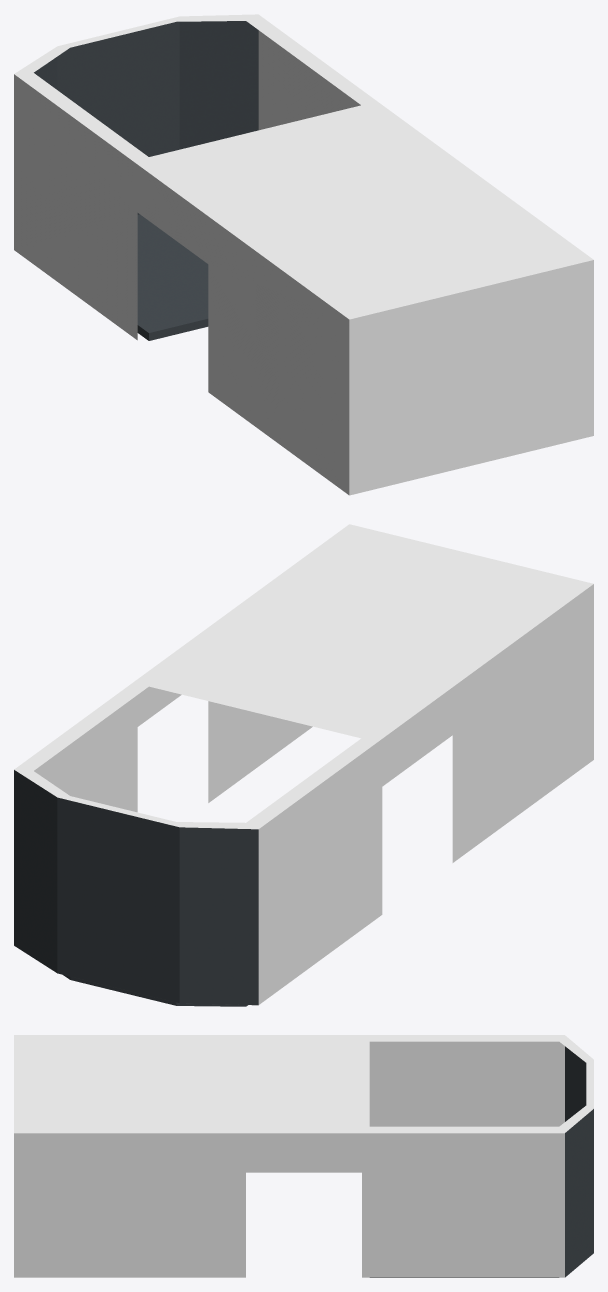
File: Lift_Walls_01_Level_03.fbx
3 views of the same model, one above another, from view 1: azimuth 30°, elevation 25°; view 2: azimuth 150°, elevation 25°; view 3: azimuth 270°, elevation 25° (orthographic). The views are drawn at different scales.
Visible parts, largest first — view 1: Lift_Walls_01_Level_03; view 2: Lift_Walls_01_Level_03; view 3: Lift_Walls_01_Level_03.
Boxes of the visible parts, box(x1,y1,x2,y2) form: Lift_Walls_01_Level_03: box(14, 14, 593, 495); Lift_Walls_01_Level_03: box(14, 524, 593, 1006); Lift_Walls_01_Level_03: box(14, 1035, 593, 1277).
Size of the model in its own units: 1600 by 1150 by 4000.
